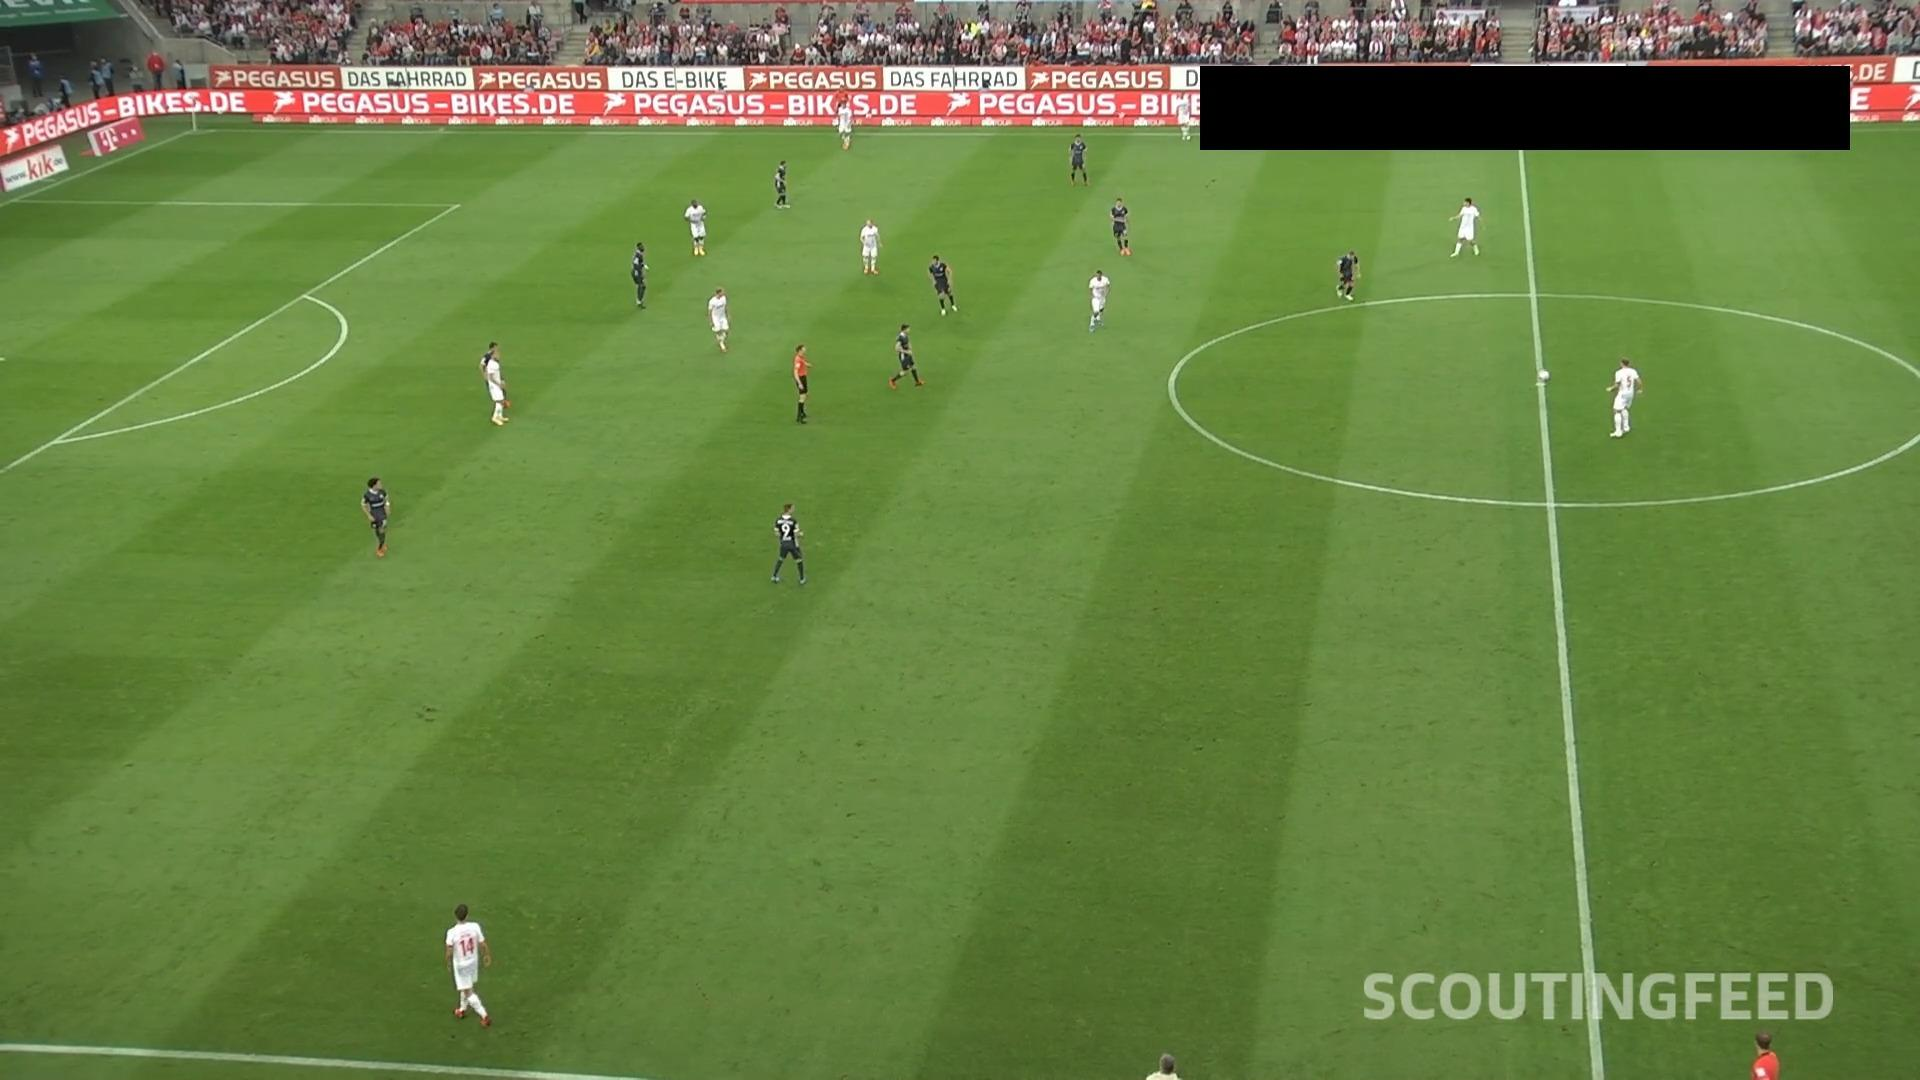ball: (1536, 368, 1551, 382)
